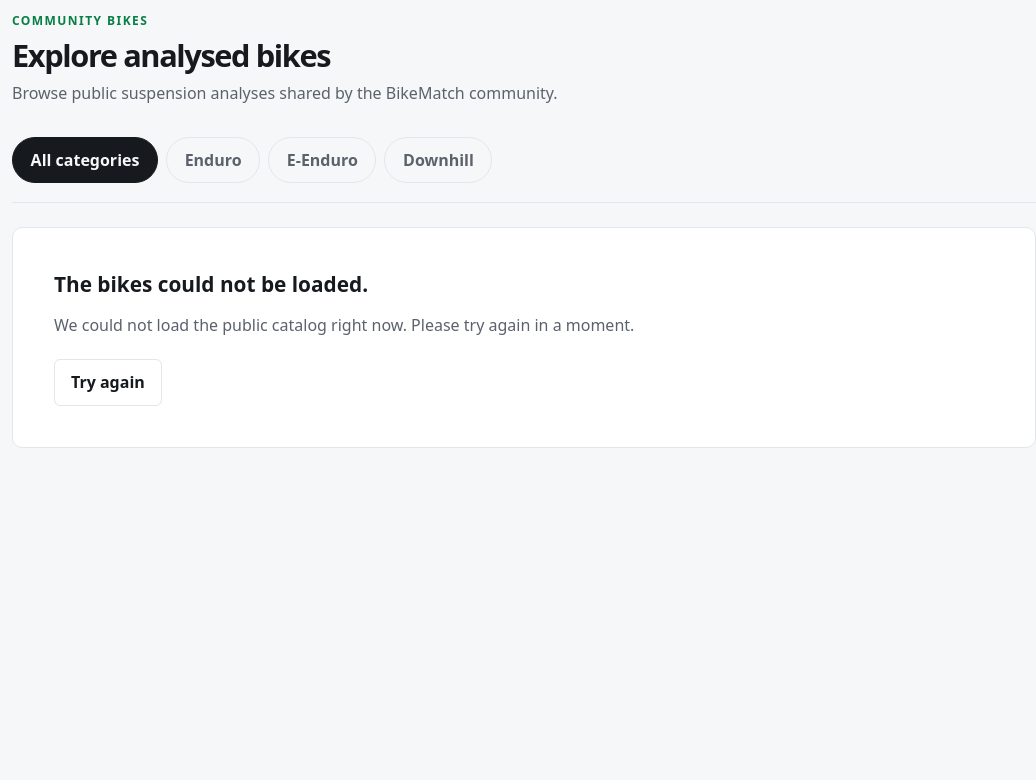
Test: can retry a failed request
This screenshot has width=1036, height=780.
Expected: the message is shown, top-left (12, 227), bottom-right (1035, 448)
Step 1. Click the button "Try again" → coordinates (108, 382), box top-left (54, 359), bottom-right (162, 406)
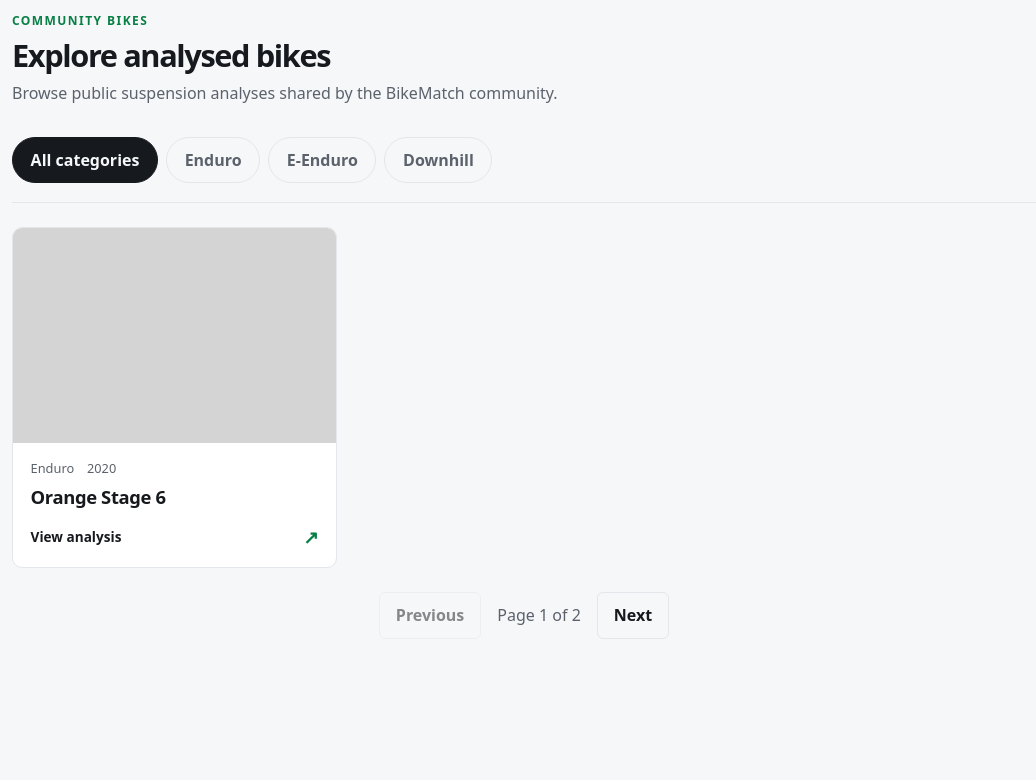
Expected: the heading "Orange Stage 6" is shown, top-left (31, 484), bottom-right (166, 509)
